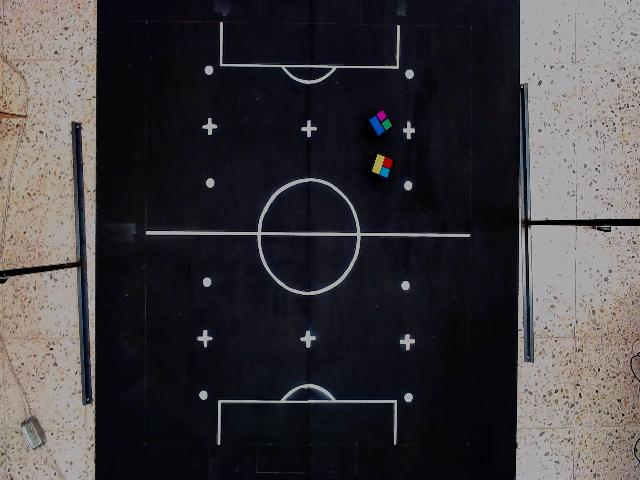robot: (367, 108, 394, 138), (370, 152, 394, 181)
